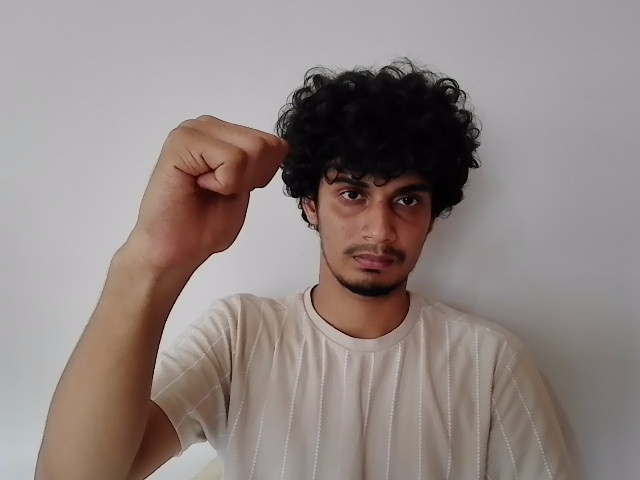how: (125, 112, 288, 266)
